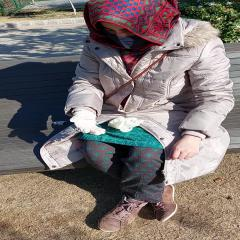gloved: (68, 109, 109, 135)
not-gloved: (169, 136, 201, 160)
